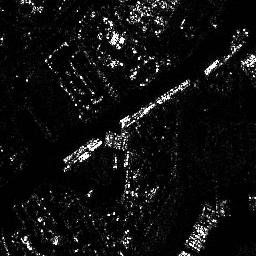ship: (61, 135, 101, 163)
